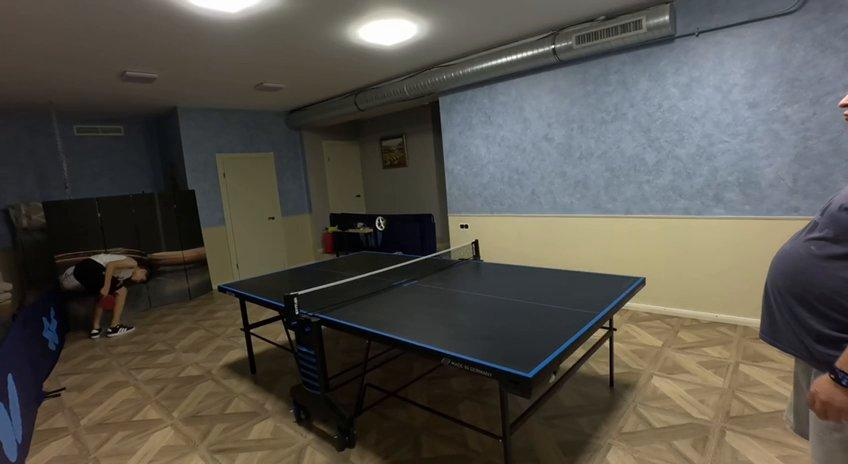Net: (283, 240, 481, 321)
Player1: (60, 252, 147, 337)
Player2: (760, 187, 847, 463)
Table: (222, 253, 640, 377)
